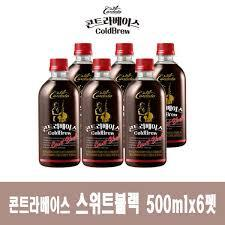contrabass_sweetblack: (35, 54, 82, 170), (120, 58, 167, 171), (81, 59, 123, 169)
